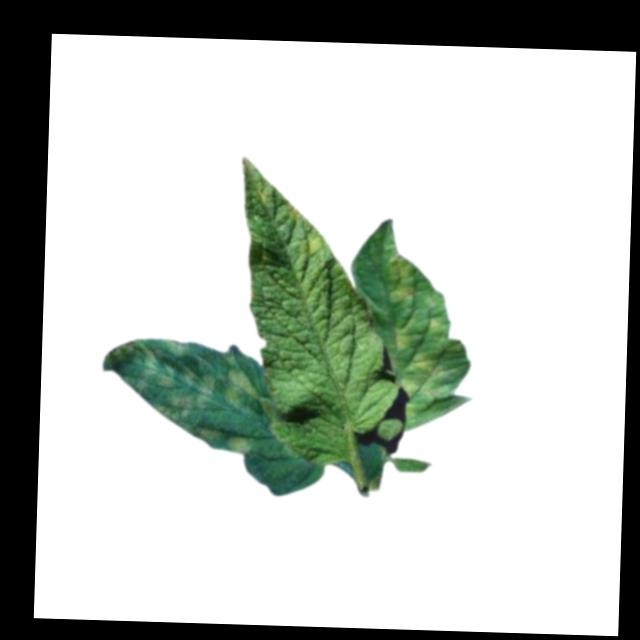Leaf_Mold: (100, 333, 282, 456), (383, 247, 452, 398), (301, 233, 327, 257)
